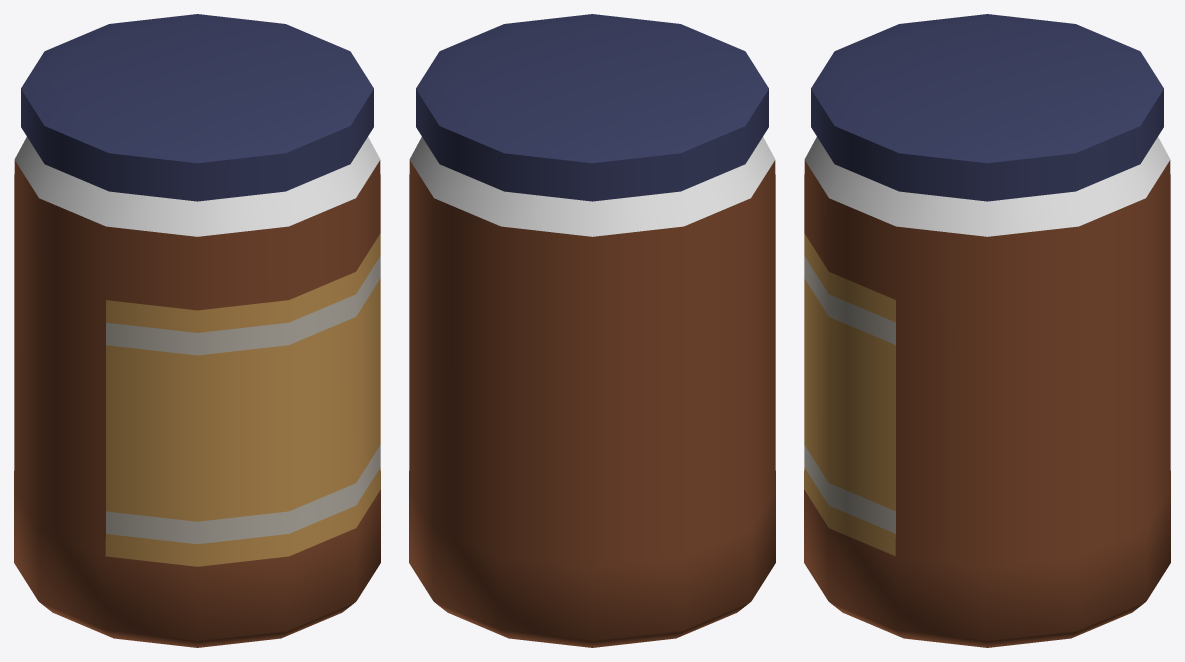
File: PeanutButter_01.fbx
3 renders of one model, left to right at view 1: azimuth 30°, elevation 25°; view 2: azimuth 150°, elevation 25°; view 3: azimuth 270°, elevation 25°, orthographic.
Parts seen in each view (by area): view 1: PeanutButter_01; view 2: PeanutButter_01; view 3: PeanutButter_01.
Boxes of the visible parts, x1,y1,x2,y2 form: PeanutButter_01: [14, 14, 380, 647]; PeanutButter_01: [409, 14, 775, 647]; PeanutButter_01: [804, 14, 1170, 647].
Bounding box in the file's own units: 0.0976 × 0.1456 × 0.0976.
